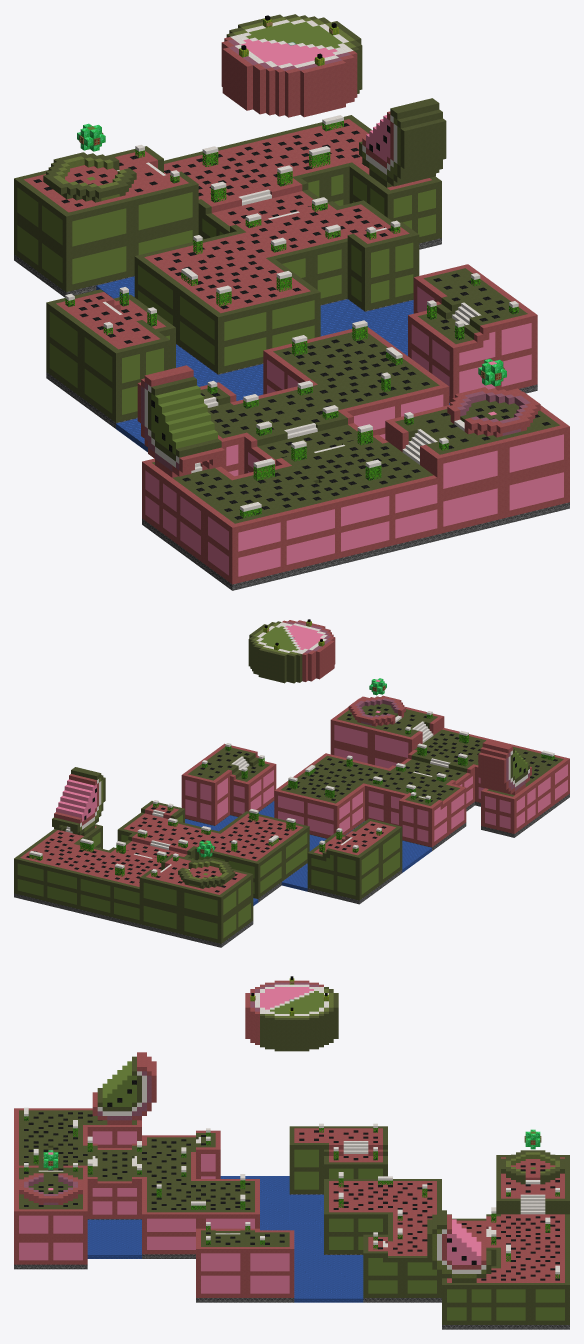
File: minecraft.obj
3 renders of one model, top to bottom at view 1: azimuth 30°, elevation 25°; view 2: azimuth 150°, elevation 25°; view 3: azimuth 270°, elevation 25°, orthographic. The views are drawn at different scales.
Size of the model in its own units: 85 by 55.52 by 113.
